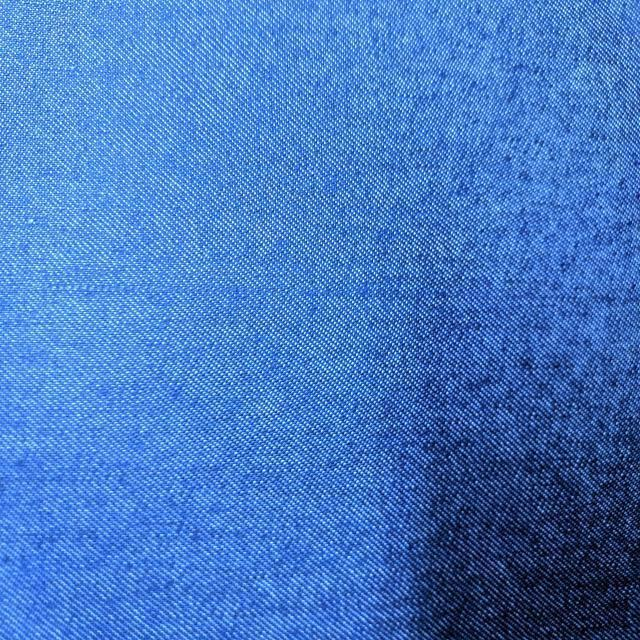Line: (15, 276, 521, 306)
